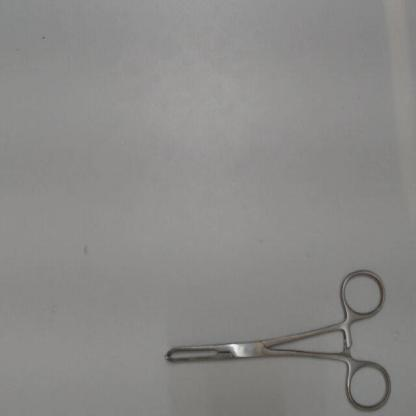Allis Tissue Forceps: (154, 262, 396, 415)
